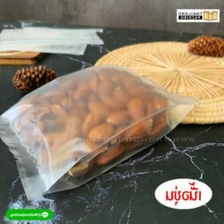snack: (0, 58, 207, 208)
